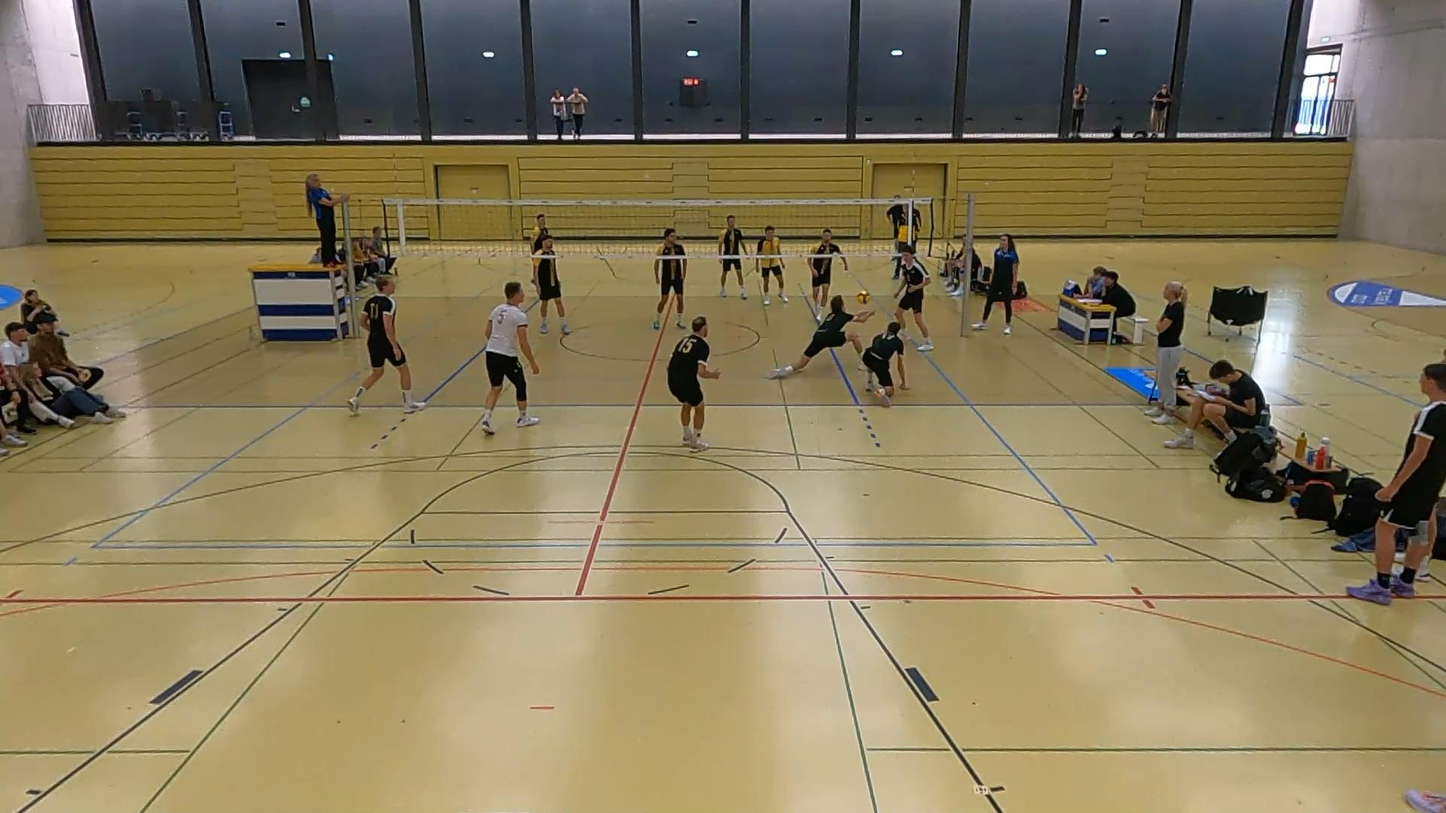difesa: (762, 284, 877, 380)
